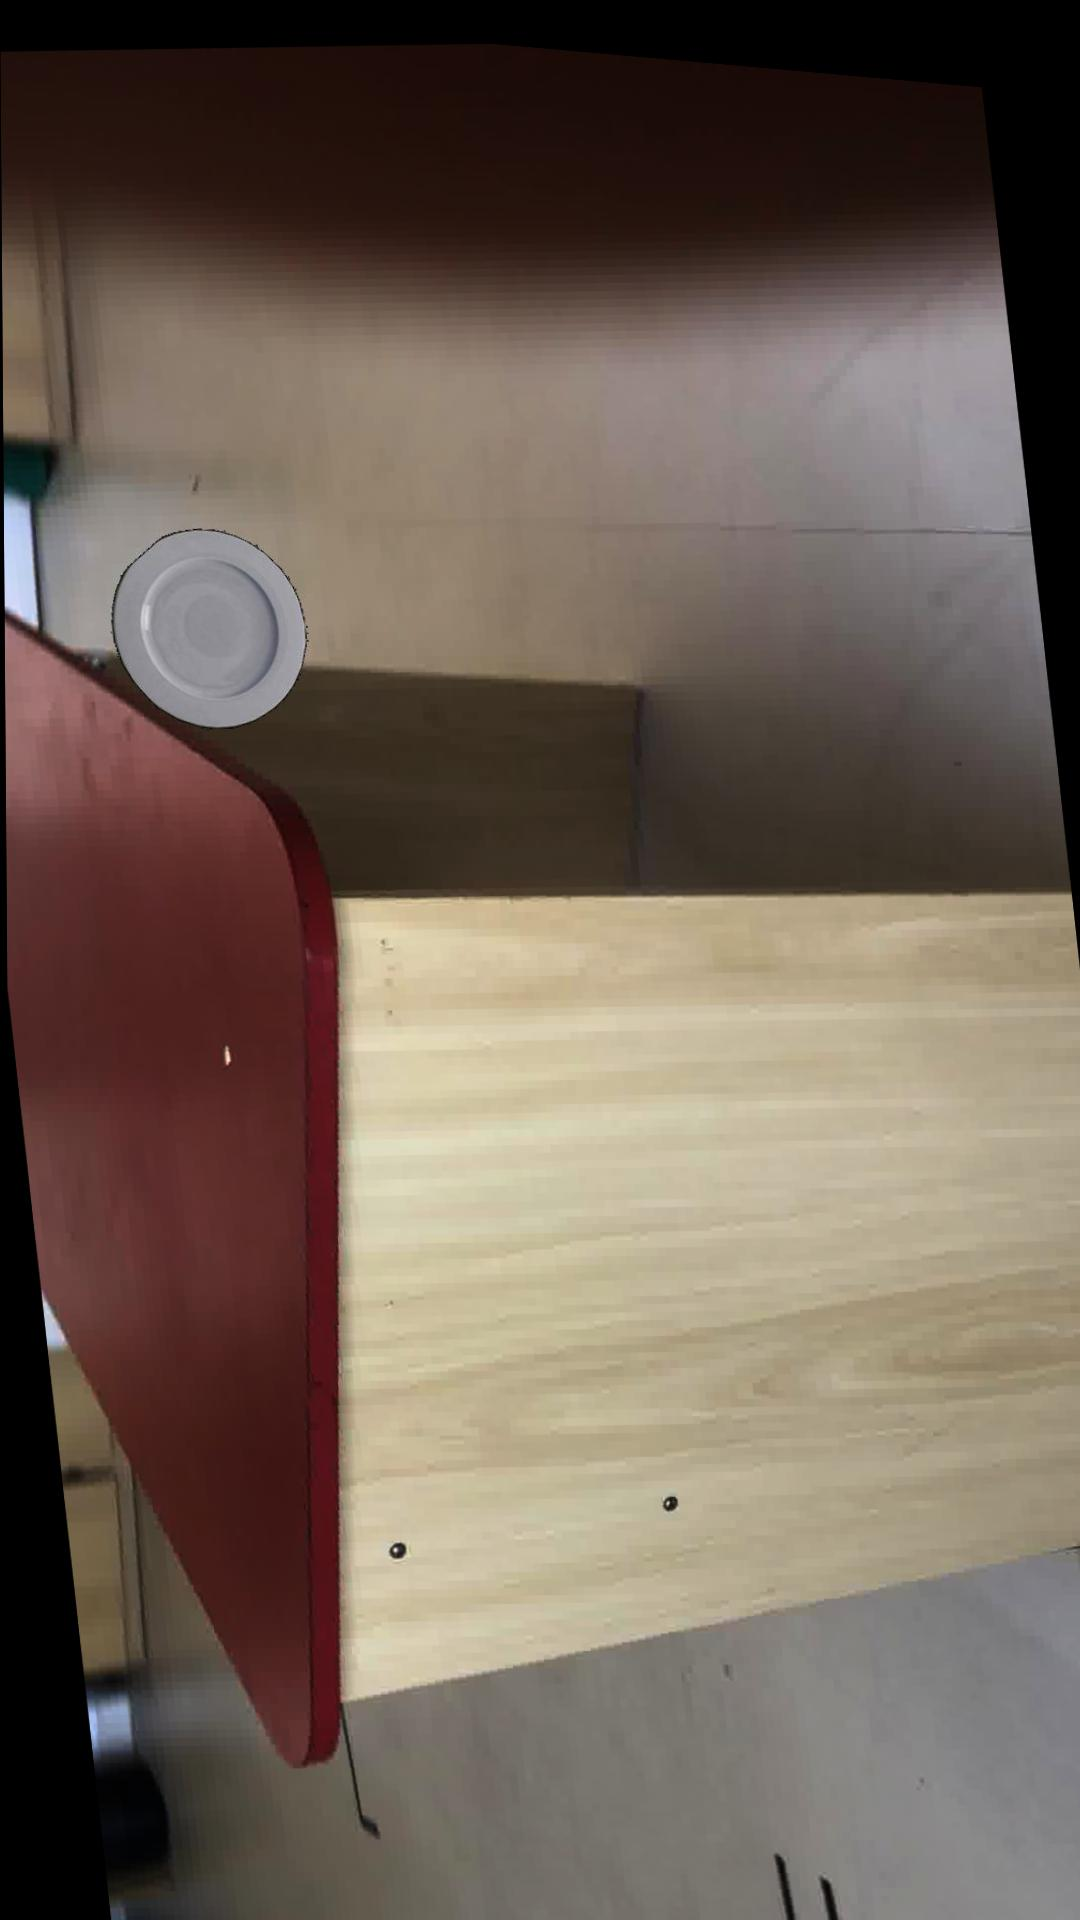plate: (112, 524, 307, 724)
